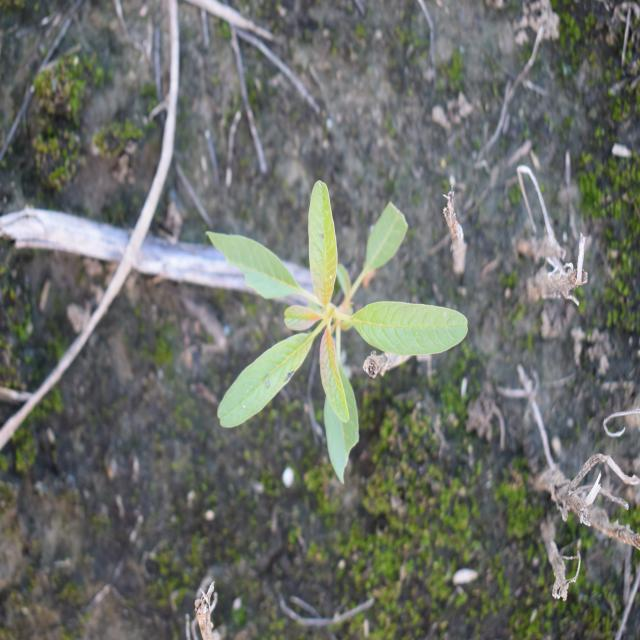Waterhemp: (203, 178, 471, 490)
